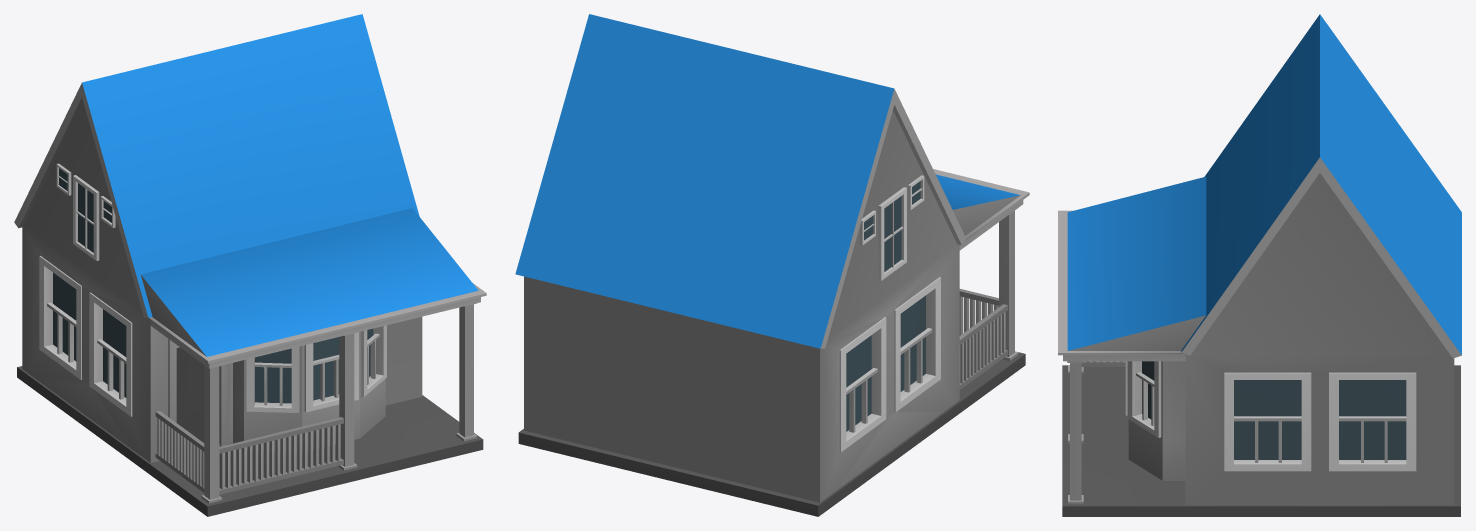
The model's file is house_008.glb.
3 views of the same model, side by side, from view 1: azimuth 30°, elevation 25°; view 2: azimuth 150°, elevation 25°; view 3: azimuth 270°, elevation 25° (orthographic). The views are drawn at different scales.
Parts seen in each view (by area): view 1: house_008; view 2: house_008; view 3: house_008.
Part boxes in pixels (x1,y1,x2,y2): house_008: (14,14,486,516); house_008: (515,14,1029,516); house_008: (1058,14,1461,516).
Bounding box in the file's own units: 6.34 × 7.44 × 7.55.
1 material, 1 textured.
